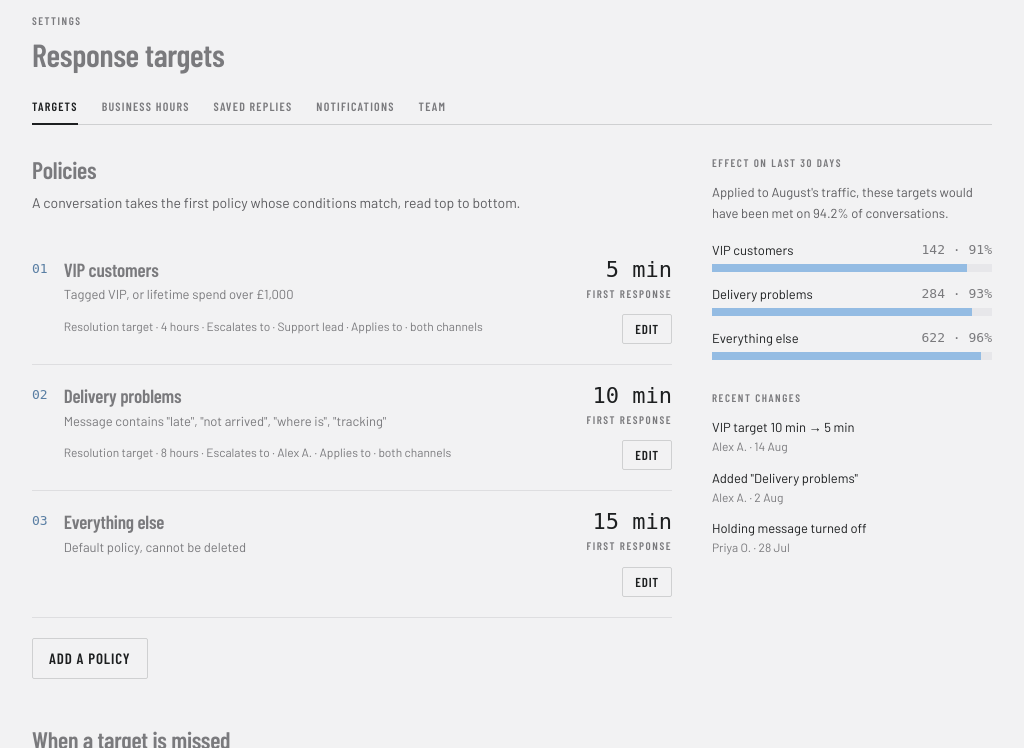
it: SettingsPage › puts the policies back as they were when changes are discarded
Click the button "Edit" in the row of "Support lead".
click(647, 329)  # box [622,314,672,344]
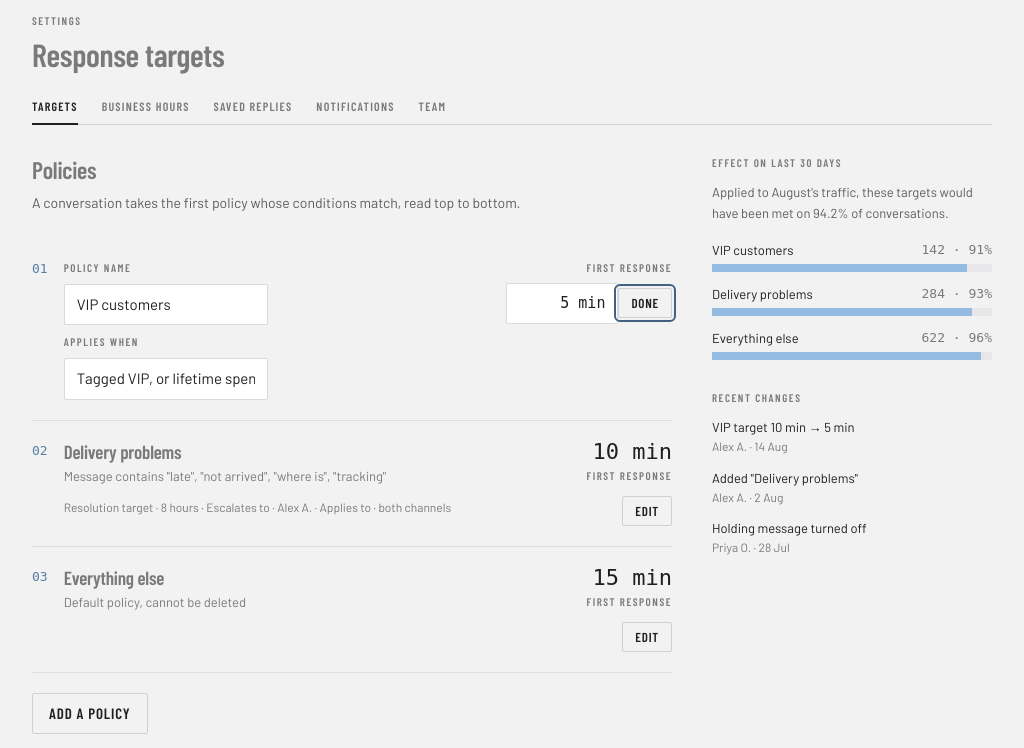
Replace the text in the field labelled "Policy name" with "Renamed" at (166, 305), box [64,284,268,325]
(page scrolled)
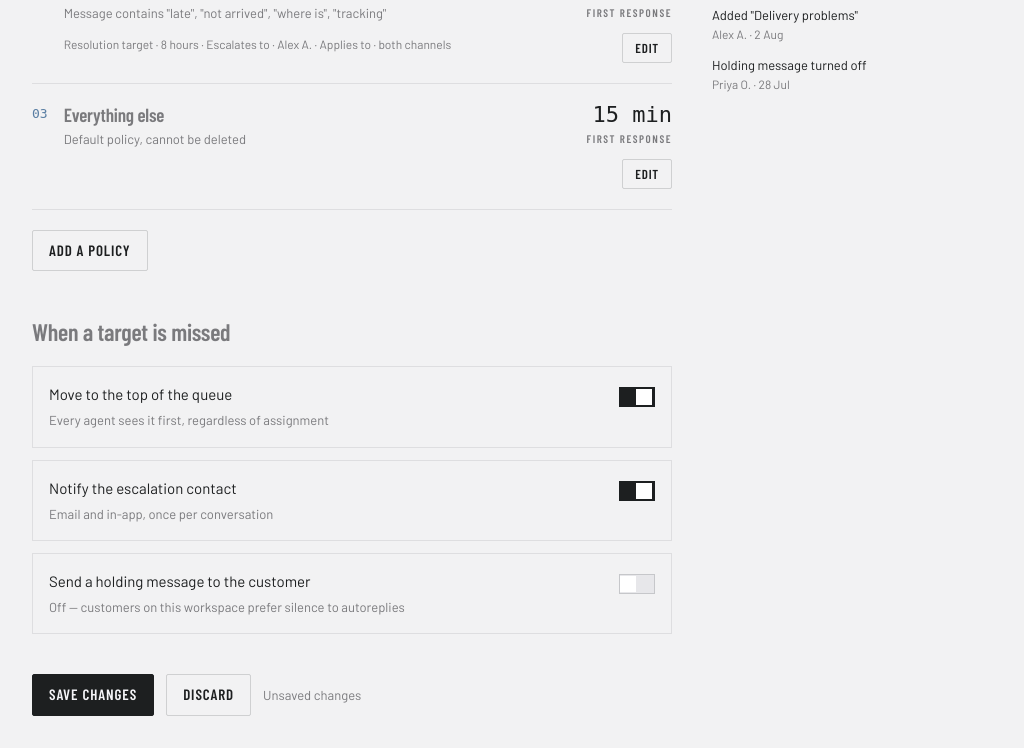
Click the button "Discard".
click(208, 695)  # box [166,674,251,716]
(page scrolled)
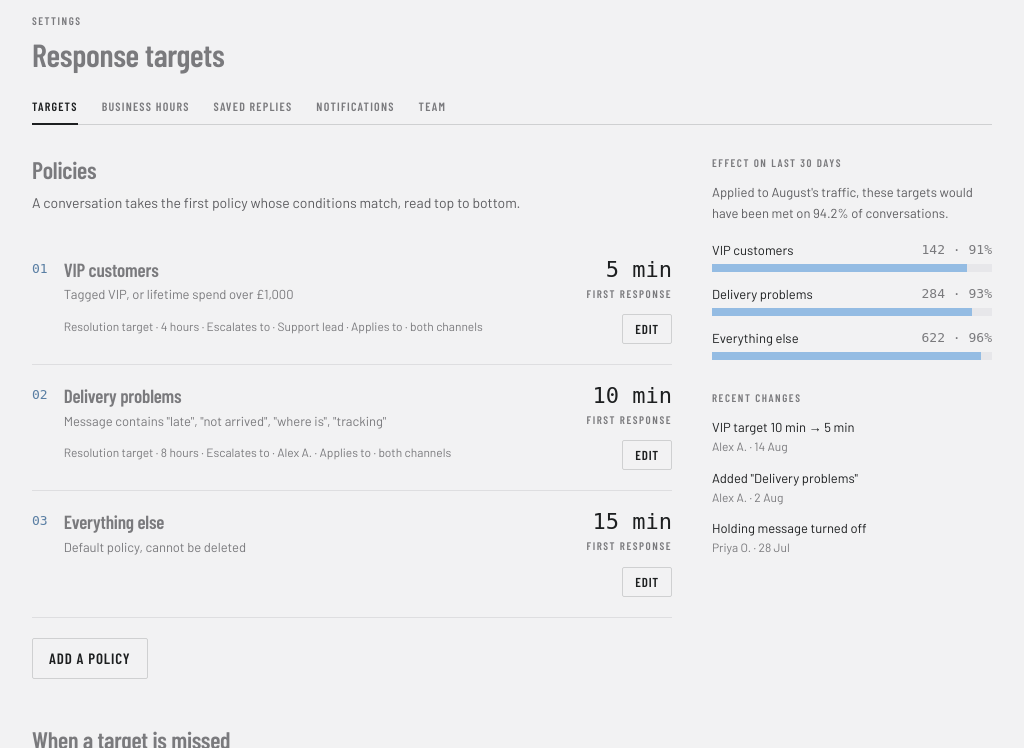
Expected: the heading "VIP customers" is shown, [64,258,159,281]
